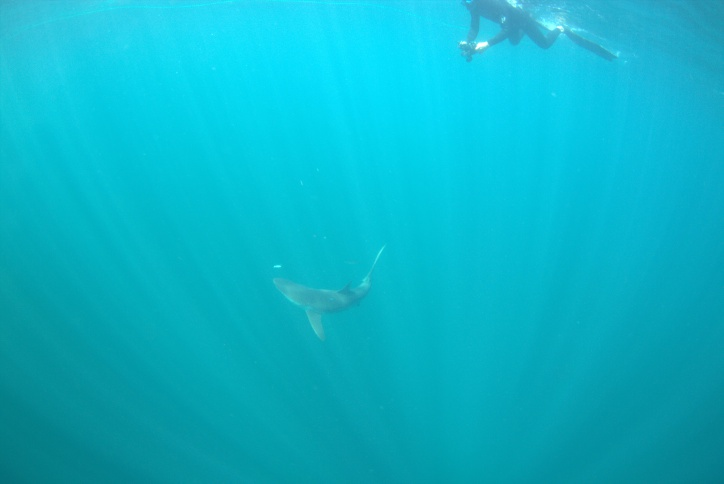Sedoso: (245, 244, 409, 345)
